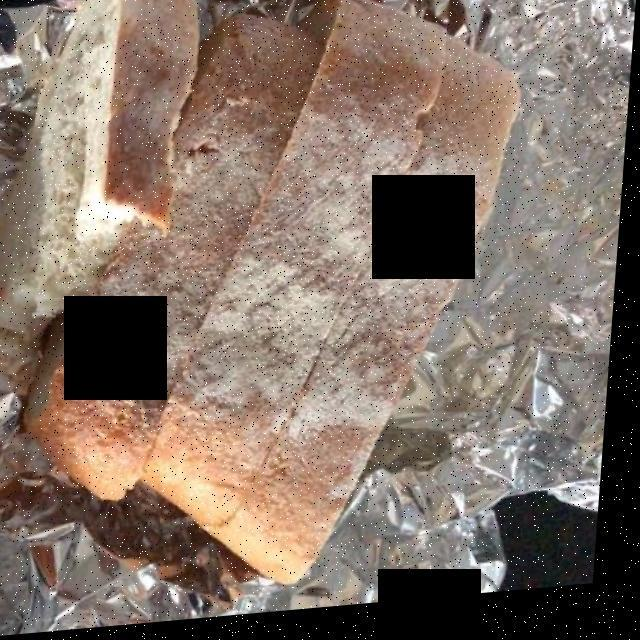bread: (37, 5, 522, 578)
